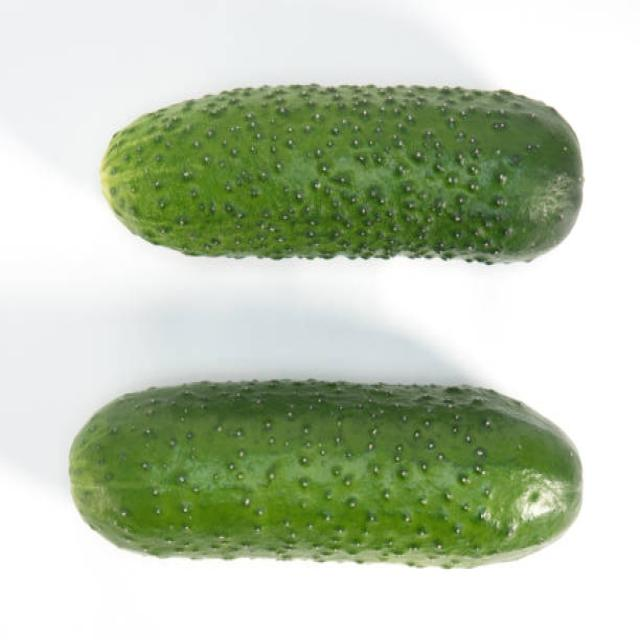cucumber: (69, 378, 585, 567), (101, 84, 584, 266)
